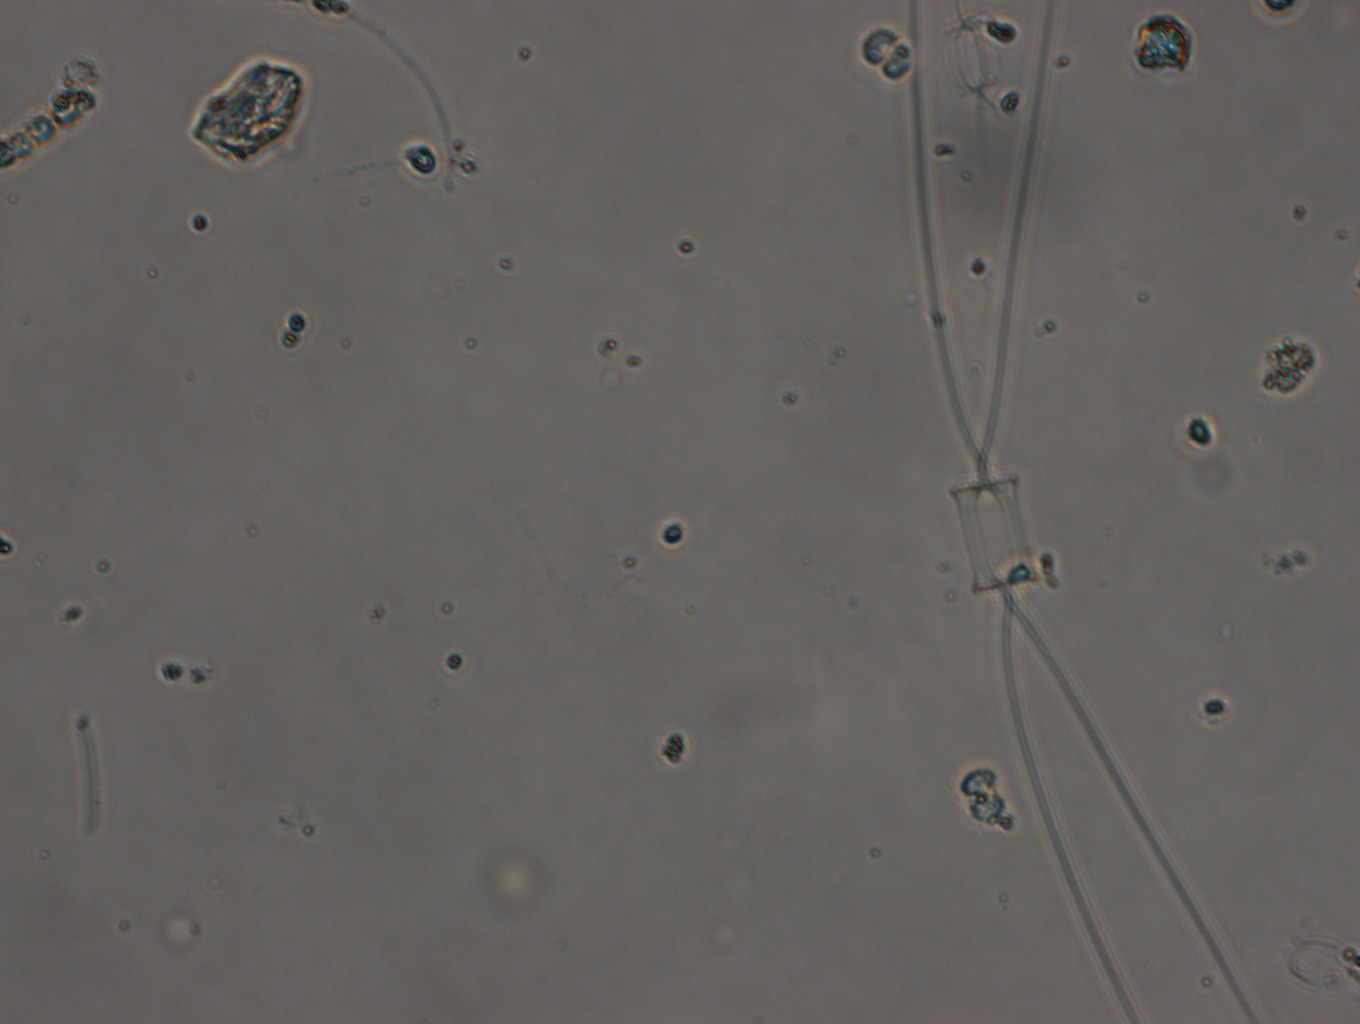chaetoceros: (902, 1, 1257, 1024)
